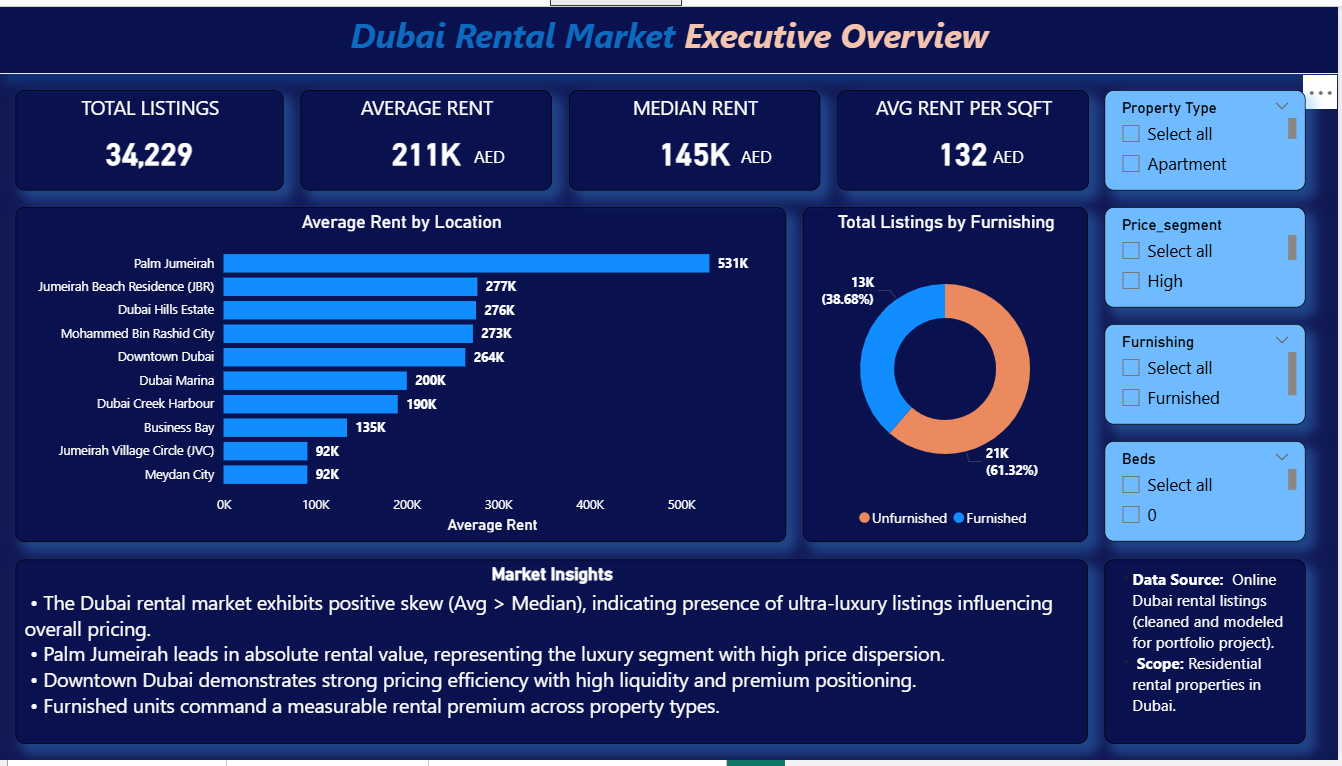

The page's visual inventory and layout, read from the dashboard file:
{"tool":"powerbi","page":{"name":"Executive Overview","canvas":[1280,720],"ordinal":0},"visuals":[{"type":"card","title":"TOTAL LISTINGS","fields":{"Values":["dubai_rentals.Total Listings"]},"box":[16,80,256,96],"z":0},{"type":"textbox","box":[0,0,1280,64],"z":1000},{"type":"card","title":"AVERAGE RENT","fields":{"Values":["dubai_rentals.Average Rent"]},"box":[288,80,240,96],"z":2000},{"type":"card","title":"AVG RENT PER SQFT","fields":{"Values":["dubai_rentals.Average Rent per sqft"]},"box":[800,80,240,96],"z":3000},{"type":"clusteredBarChart","fields":{"Category":["dubai_rentals.Location"],"Y":["dubai_rentals.Average Rent"]},"box":[16,192,736,320],"z":4000},{"type":"donutChart","fields":{"Category":["dubai_rentals.Furnishing"],"Y":["dubai_rentals.Total Listings"]},"box":[768,192,272,320],"z":5000},{"type":"slicer","fields":{"Values":["dubai_rentals.Type"]},"box":[1056,80,192,96],"z":6000},{"type":"slicer","fields":{"Values":["dubai_rentals.Furnishing"]},"box":[1056,304,192,96],"z":7000},{"type":"slicer","fields":{"Values":["dubai_rentals.Beds"]},"box":[1056,416,192,96],"z":8000},{"type":"textbox","title":"Market Insights","box":[16,528,1024,176],"z":9000},{"type":"textbox","box":[448,128,64,48],"z":10000},{"type":"card","title":"MEDIAN RENT","fields":{"Values":["dubai_rentals.Median rent"]},"box":[544,80,240,96],"z":11000},{"type":"textbox","box":[704,128,48,32],"z":12000},{"type":"textbox","box":[944,128,48,32],"z":13000},{"type":"slicer","fields":{"Values":["dubai_rentals.Price_segment"]},"box":[1056,192,192,96],"z":14000},{"type":"textbox","box":[1056,528,192,176],"z":15000}]}

Visuals, with their boxes in screenshot pixels (x1, y1, x2, y2), scaled from the page's 1280x720 canvas onto the 1342x766 screenshot:
"TOTAL LISTINGS" card: <box>17,85,285,187</box>
textbox: <box>0,0,1341,68</box>
"AVERAGE RENT" card: <box>302,85,554,187</box>
"AVG RENT PER SQFT" card: <box>839,85,1090,187</box>
clusteredBarChart - dubai_rentals.Location x dubai_rentals.Average Rent: <box>17,204,788,545</box>
donutChart - dubai_rentals.Furnishing x dubai_rentals.Total Listings: <box>805,204,1090,545</box>
slicer - dubai_rentals.Type: <box>1107,85,1308,187</box>
slicer - dubai_rentals.Furnishing: <box>1107,323,1308,426</box>
slicer - dubai_rentals.Beds: <box>1107,443,1308,545</box>
"Market Insights" textbox: <box>17,562,1090,749</box>
textbox: <box>470,136,537,187</box>
"MEDIAN RENT" card: <box>570,85,822,187</box>
textbox: <box>738,136,788,170</box>
textbox: <box>990,136,1040,170</box>
slicer - dubai_rentals.Price_segment: <box>1107,204,1308,306</box>
textbox: <box>1107,562,1308,749</box>
